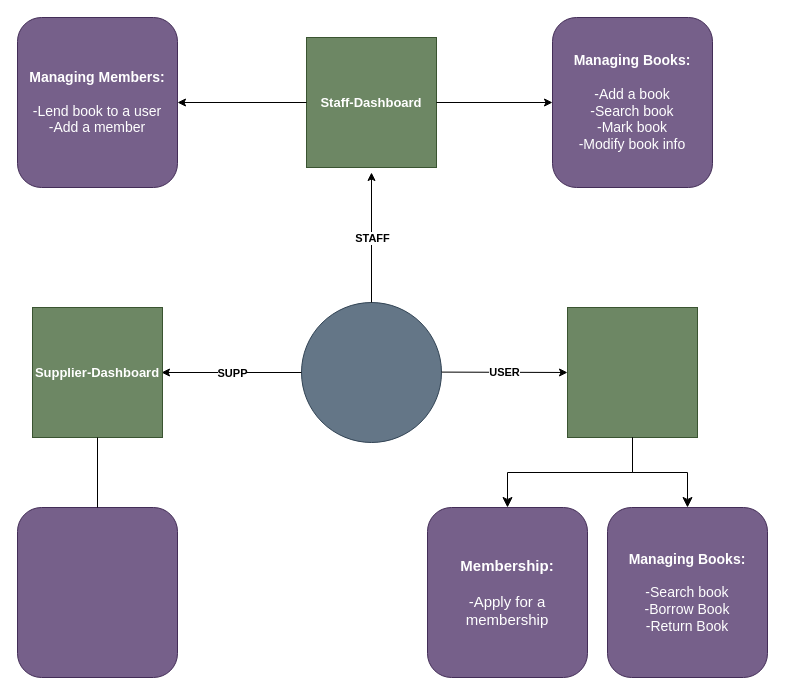
The diagram is 785 pixels wide and 695 high, and some of its shapes have lost their labels. Here are the shapes that lost their labels. From the top down, the centre of each, then its label:
At point 371,372: "LOGIN".
At point 632,372: "User-Dashboard".
At point 97,592: "Within Dashboard -Search book -Sell a book".
